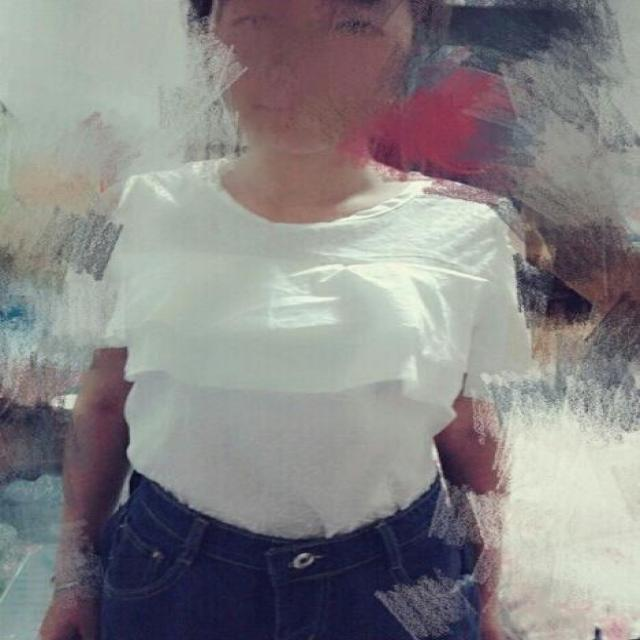short sleeve top: (62, 168, 529, 538)
trousers: (105, 477, 487, 637)
